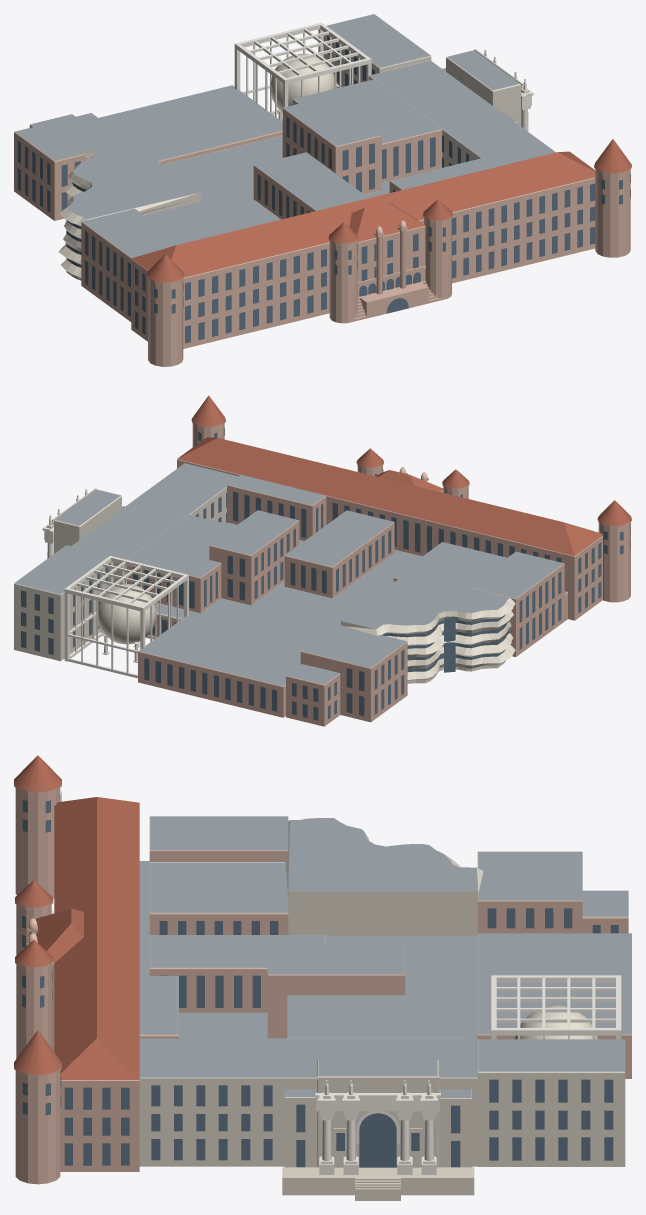
File: nyc-amnh.glb
3 views of the same model, one above another, from view 1: azimuth 30°, elevation 25°; view 2: azimuth 150°, elevation 25°; view 3: azimuth 270°, elevation 25° (orthographic). The views are drawn at different scales.
Visible parts, largest first — view 1: American Museum of Natural History; view 2: American Museum of Natural History; view 3: American Museum of Natural History.
Part boxes in pixels (bbox=[...]): American Museum of Natural History: bbox=[14, 14, 631, 366]; American Museum of Natural History: bbox=[14, 395, 631, 726]; American Museum of Natural History: bbox=[14, 755, 631, 1200].
Bounding box in the file's own units: 230 × 48.7 × 188.
